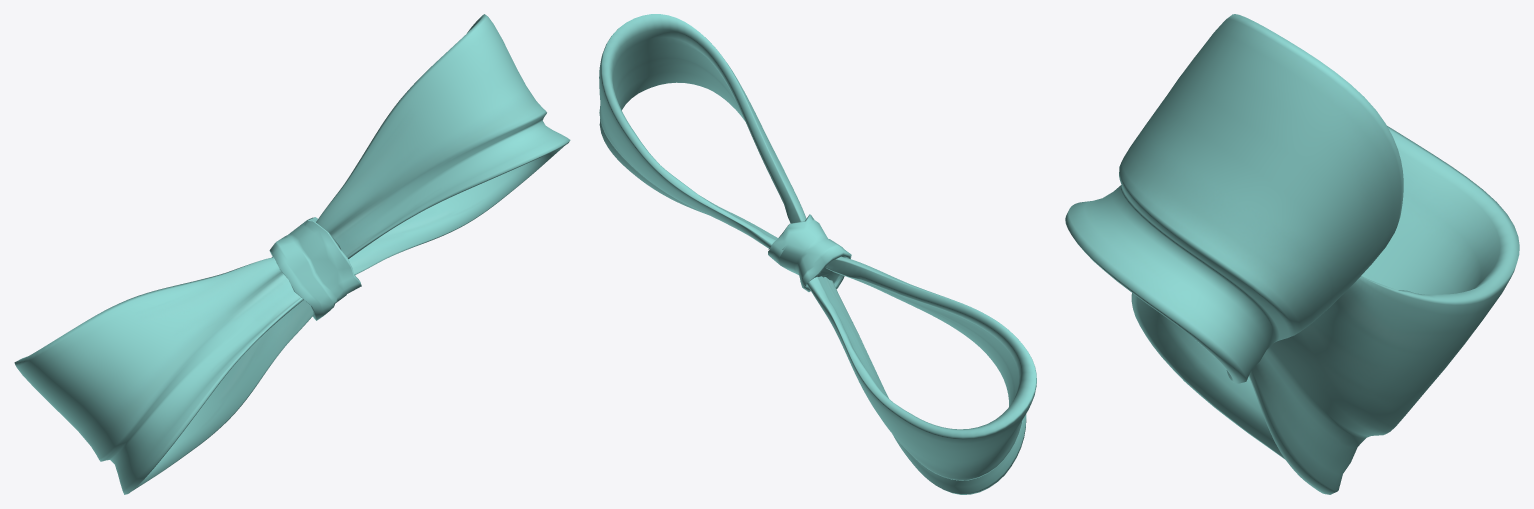
The model's file is hairBowGreen.glb.
3 renders of one model, left to right at view 1: azimuth 30°, elevation 25°; view 2: azimuth 150°, elevation 25°; view 3: azimuth 270°, elevation 25°, orthographic. The views are drawn at different scales.
Visible parts, largest first — view 1: hariBow_toSend; view 2: hariBow_toSend; view 3: hariBow_toSend.
Boxes of the visible parts, x1,y1,x2,y2 form: hariBow_toSend: (14, 14, 570, 494); hariBow_toSend: (599, 14, 1036, 494); hariBow_toSend: (1065, 14, 1519, 494).
Size of the model in its own units: 0.2466 by 0.1914 by 0.1023.
Materials: 1 (1 with a texture image).
